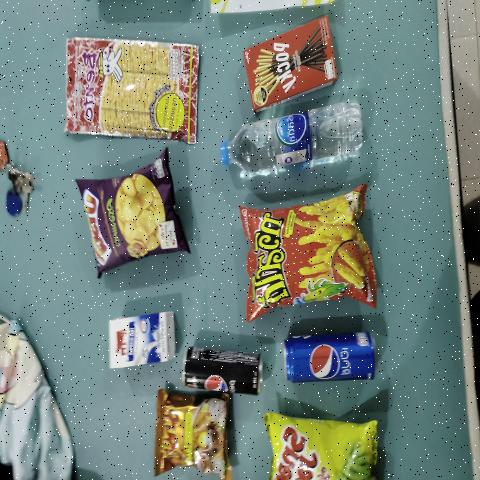bento_red: (67, 46, 193, 133)
crystal: (219, 101, 372, 180)
mama: (158, 404, 228, 469)
party_purple: (86, 162, 180, 272)
pepsi_black: (178, 350, 265, 398)
pepsi_blue: (283, 334, 375, 384)
pokki: (250, 20, 336, 113)
thai_denmark: (112, 313, 176, 369)
twisco: (248, 189, 367, 316)
